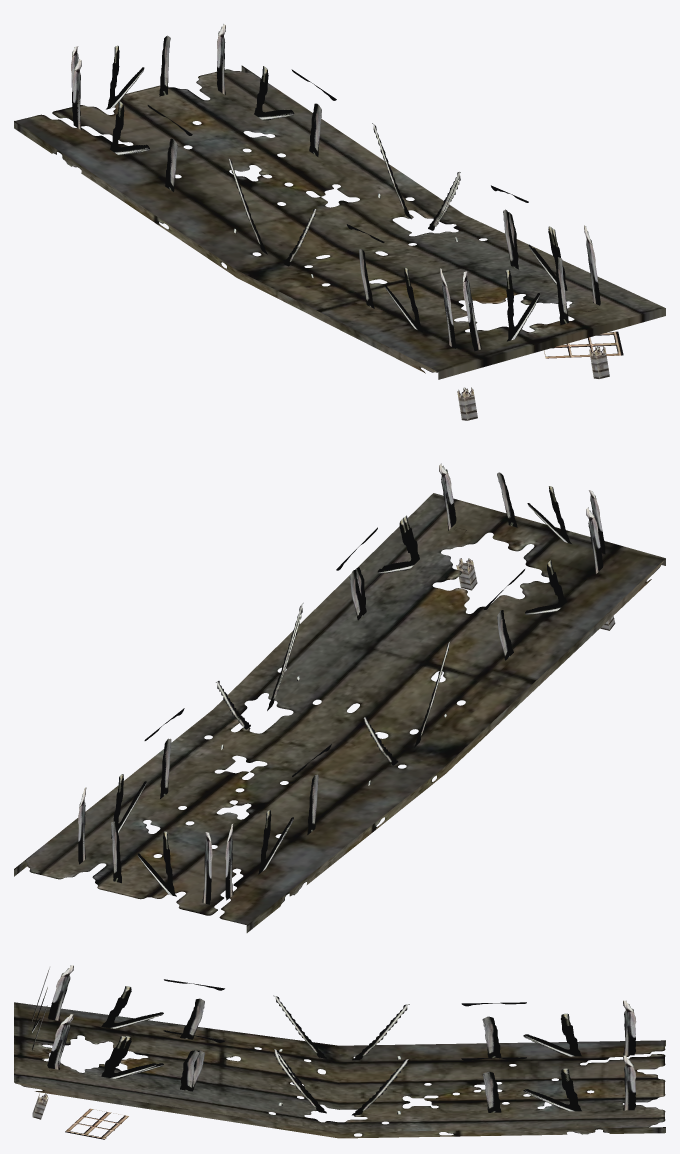
The model's file is s_barracks2_dam_hdtex.glb.
The picture shows the model from 3 angles, top to bottom: view 1: azimuth 30°, elevation 25°; view 2: azimuth 150°, elevation 25°; view 3: azimuth 270°, elevation 25°; orthographic projection. The views are drawn at different scales.
Visible parts, largest first — view 1: Object01; view 2: Object01; view 3: Object01.
Part boxes in pixels (x1=…): Object01: x1=14, y1=24, x2=665, y2=420; Object01: x1=14, y1=463, x2=665, y2=932; Object01: x1=14, y1=965, x2=665, y2=1139.
Bounding box in the file's own units: 8.01 × 4.63 × 23.65.
Materials: 3 (3 with a texture image).
